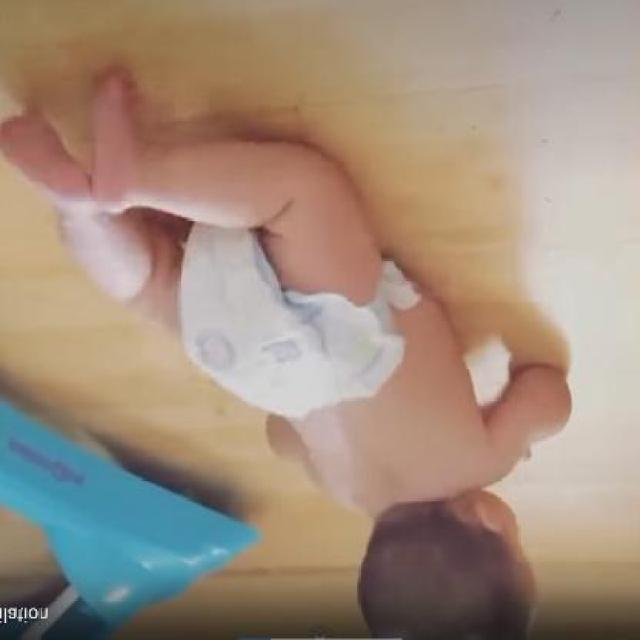baby: (0, 73, 574, 632)
